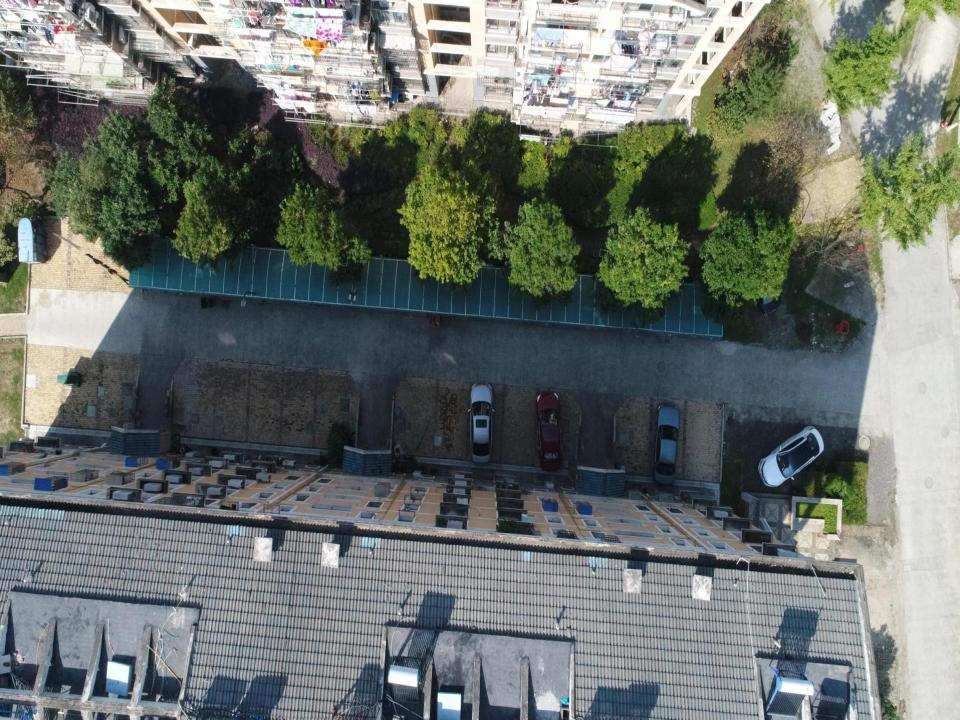car: (758, 424, 825, 488), (650, 402, 680, 488), (467, 382, 495, 464), (536, 391, 564, 472)
